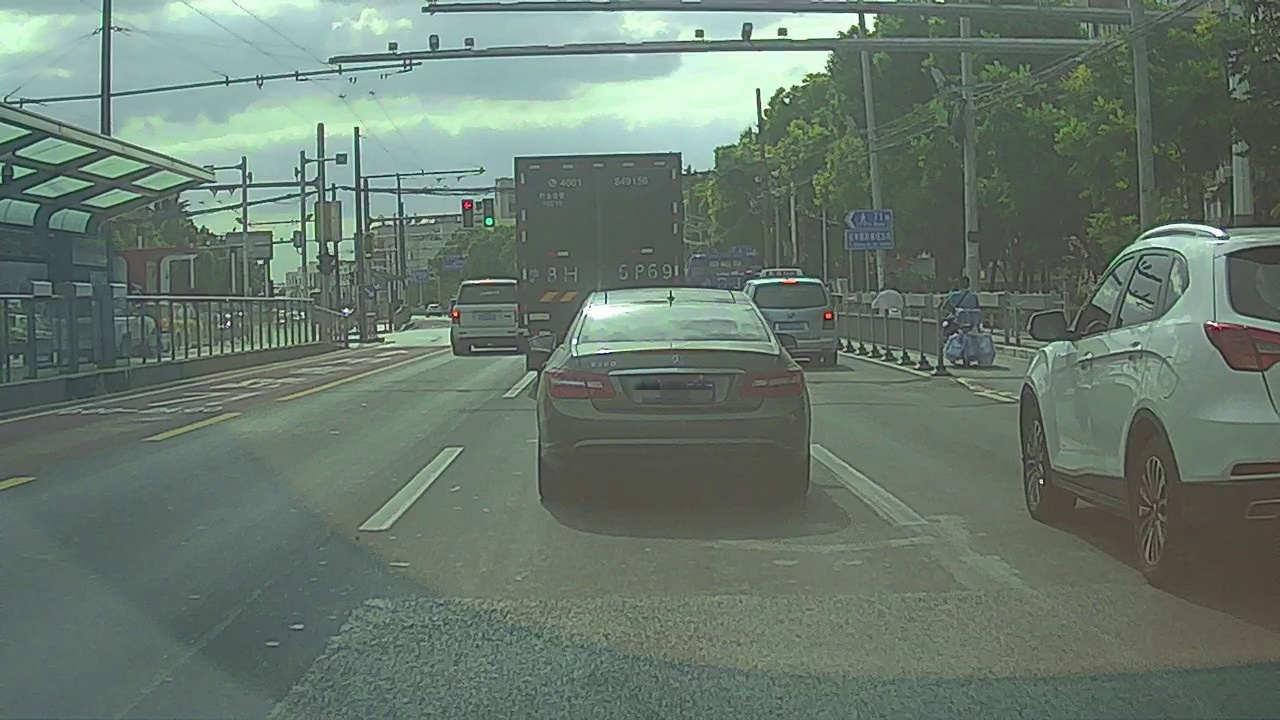traffic_light: (483, 199, 495, 228), (461, 200, 473, 227)
